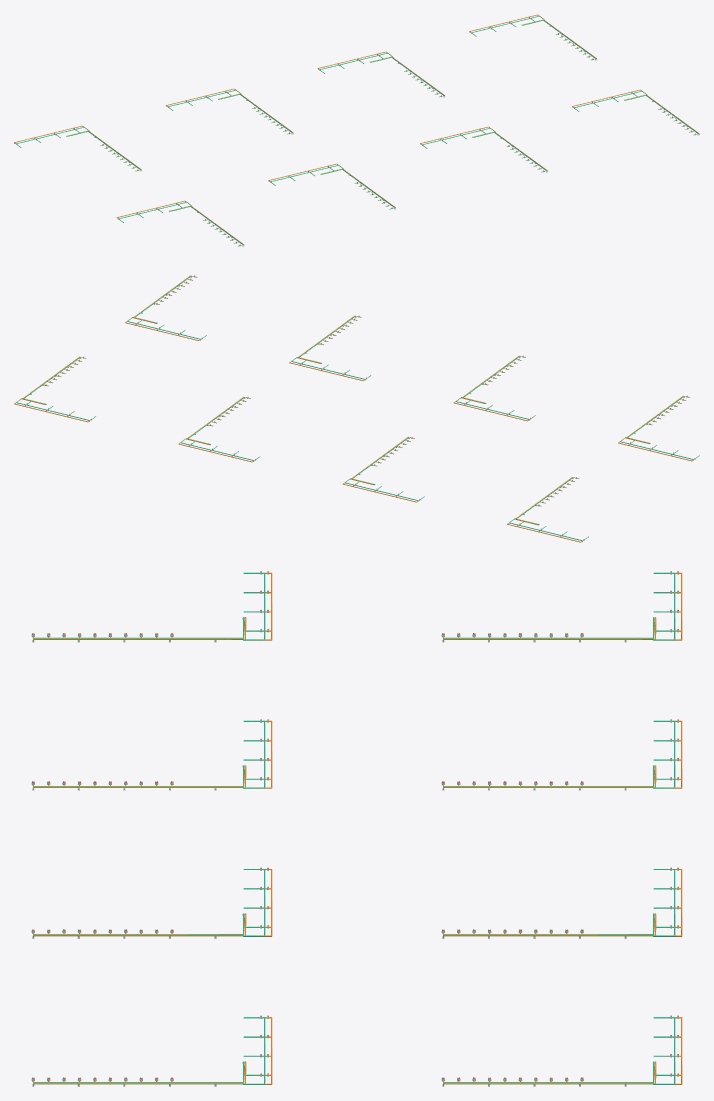
File: fws.glb
The picture shows the model from 3 angles, top to bottom: view 1: azimuth 30°, elevation 25°; view 2: azimuth 150°, elevation 25°; view 3: azimuth 270°, elevation 25°; orthographic projection. The views are drawn at different scales.
Parts seen in each view (by area): view 1: fws_green, fws_orange; view 2: fws_orange, fws_green; view 3: fws_orange, fws_green, fws_steel-light.
Part boxes in pixels (x1,y1,x2,y2): fws_green: (16,16,698,246); fws_orange: (14,14,699,245); fws_orange: (14,275,697,542); fws_green: (16,275,699,540); fws_orange: (33,572,682,1084); fws_green: (32,572,675,1084); fws_steel-light: (31,572,679,1081).
Size of the model in its own units: 345 by 1.35 by 186.
